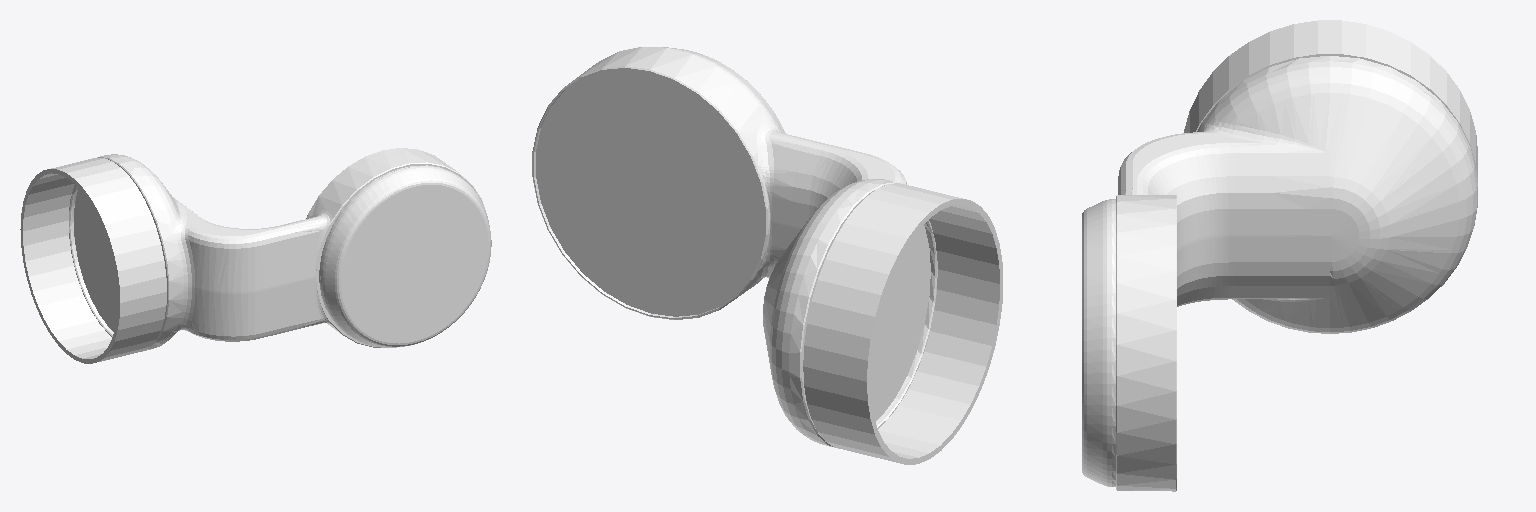
URDF robot description (forearm_roll_link):
<robot name="forearm_roll_link">
  <link name="forearm_roll_link">
    <inertial>
      <origin rpy="0 0 0" xyz="0.1097 -0.0266 0.0000" />
      <mass value="1.6563" />
      <inertia ixx="0.0016" ixy="-0.0003" ixz="0.0" iyy="0.003" iyz="-0.0" izz="0.0035" />
    </inertial>
    <visual>
      <origin rpy="0 0 0" xyz="0 0 0" />
      <geometry>
        <mesh filename="package://fetch_description/meshes/forearm_roll_link.obj" />
      </geometry>
      <material name="">
        <color rgba="1 1 1 1" />
      </material>
    </visual>
    <collision>
      <origin rpy="0 0 0" xyz="0 0 0" />
      <geometry>
        <mesh filename="package://fetch_description/meshes/forearm_roll_link_collision.STL" />
      </geometry>
    </collision>
  </link>
</robot>

--- Facts derived from the render (not from the file) ---
Views: 3 orthographic renders of the robot side by side, from view 1: azimuth 30°, elevation 25°; view 2: azimuth 150°, elevation 25°; view 3: azimuth 270°, elevation 25°.
Model forearm_roll_link with 1 links and 0 joints (none), rooted at forearm_roll_link, posed every joint at zero.
Visible links, largest first — view 1: forearm_roll_link; view 2: forearm_roll_link; view 3: forearm_roll_link.
Boxes of the visible links, left/top/right/bottom form: forearm_roll_link: left=20, top=148, right=491, bottom=363; forearm_roll_link: left=532, top=47, right=1002, bottom=464; forearm_roll_link: left=1082, top=20, right=1477, bottom=491.
Bounding box of the posed robot: 0.2085 × 0.139 × 0.104 m (x, y, z).
1 mesh visuals loaded from 1 distinct referenced files (1 OBJ).